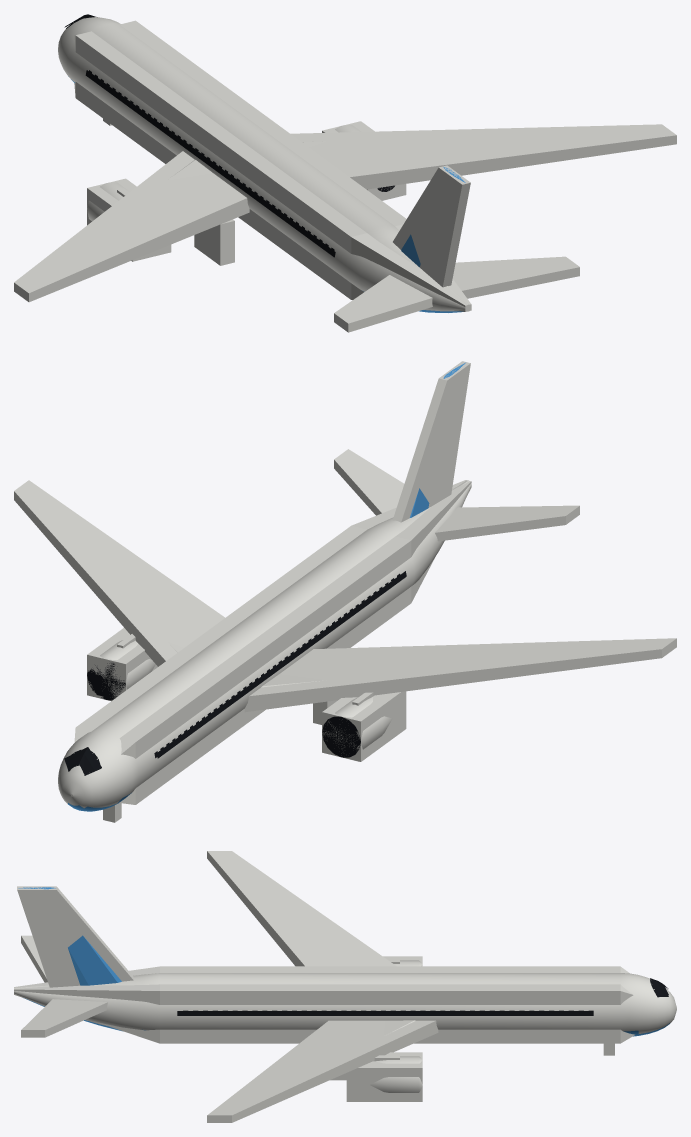
File: bne_ac_wide_sky.dae
3 renders of one model, top to bottom at view 1: azimuth 30°, elevation 25°; view 2: azimuth 150°, elevation 25°; view 3: azimuth 270°, elevation 25°, orthographic. The views are drawn at different scales.
Parts seen in each view (by area): view 1: Colmesh_bne_ac_wide_sky-1, bne_ac_wide_sky160, bne_ac_wide_sky16; view 2: Colmesh_bne_ac_wide_sky-1, bne_ac_wide_sky160, bne_ac_wide_sky16; view 3: Colmesh_bne_ac_wide_sky-1, bne_ac_wide_sky160, bne_ac_wide_sky16.
Boxes of the visible parts, x1,y1,x2,y2 form: Colmesh_bne_ac_wide_sky-1: [14, 20, 676, 332]; bne_ac_wide_sky160: [14, 16, 471, 327]; bne_ac_wide_sky16: [64, 14, 469, 310]; Colmesh_bne_ac_wide_sky-1: [14, 361, 676, 822]; bne_ac_wide_sky160: [58, 362, 674, 811]; bne_ac_wide_sky16: [64, 481, 466, 795]; Colmesh_bne_ac_wide_sky-1: [14, 851, 634, 1122]; bne_ac_wide_sky160: [14, 887, 676, 1120]; bne_ac_wide_sky16: [16, 977, 668, 1034].
Bounding box in the file's own units: 60.1 × 63.7 × 17.5.
